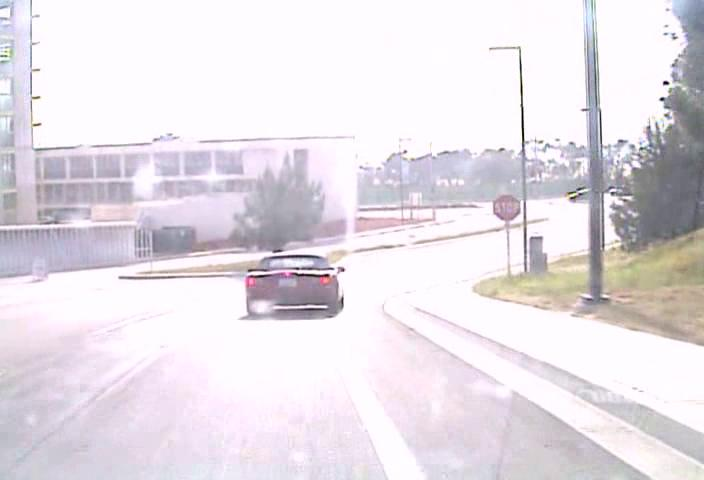stop: (492, 193, 521, 221)
